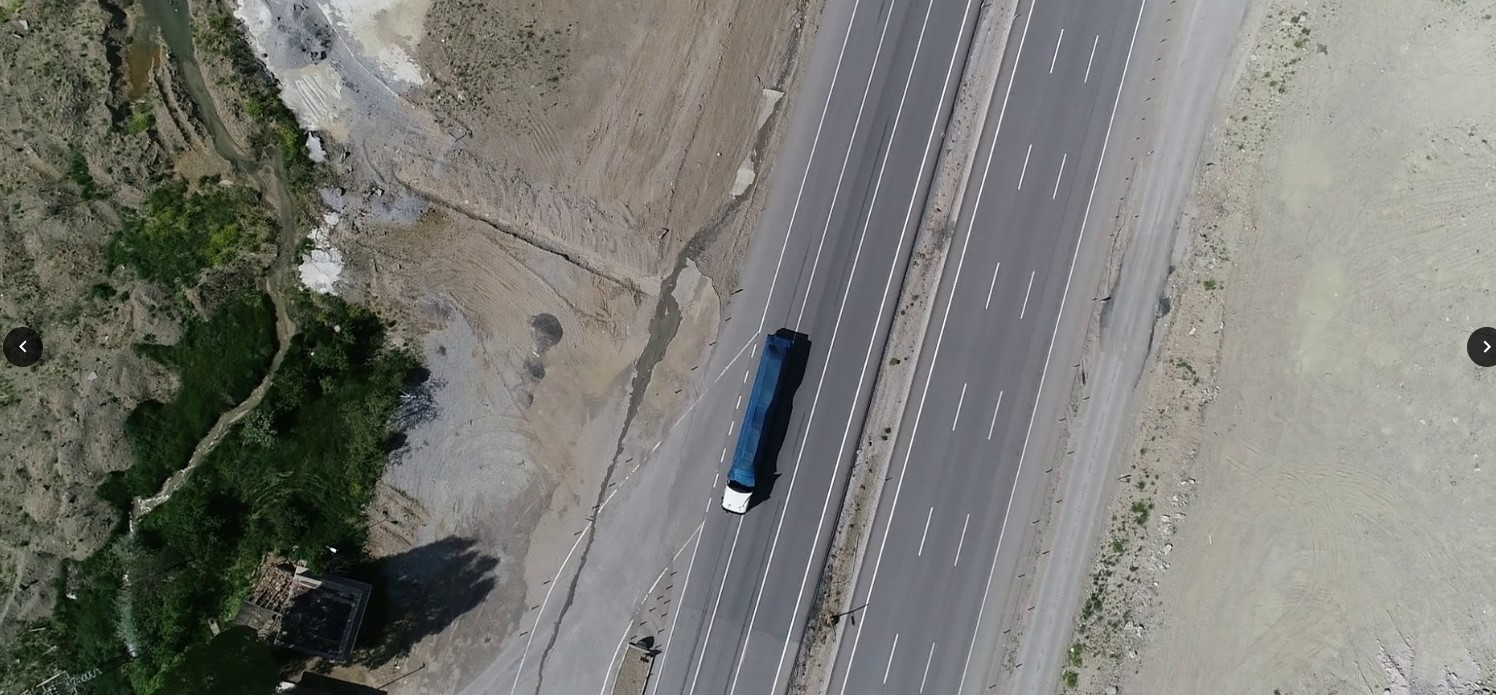kamyon: (719, 328, 807, 517)
